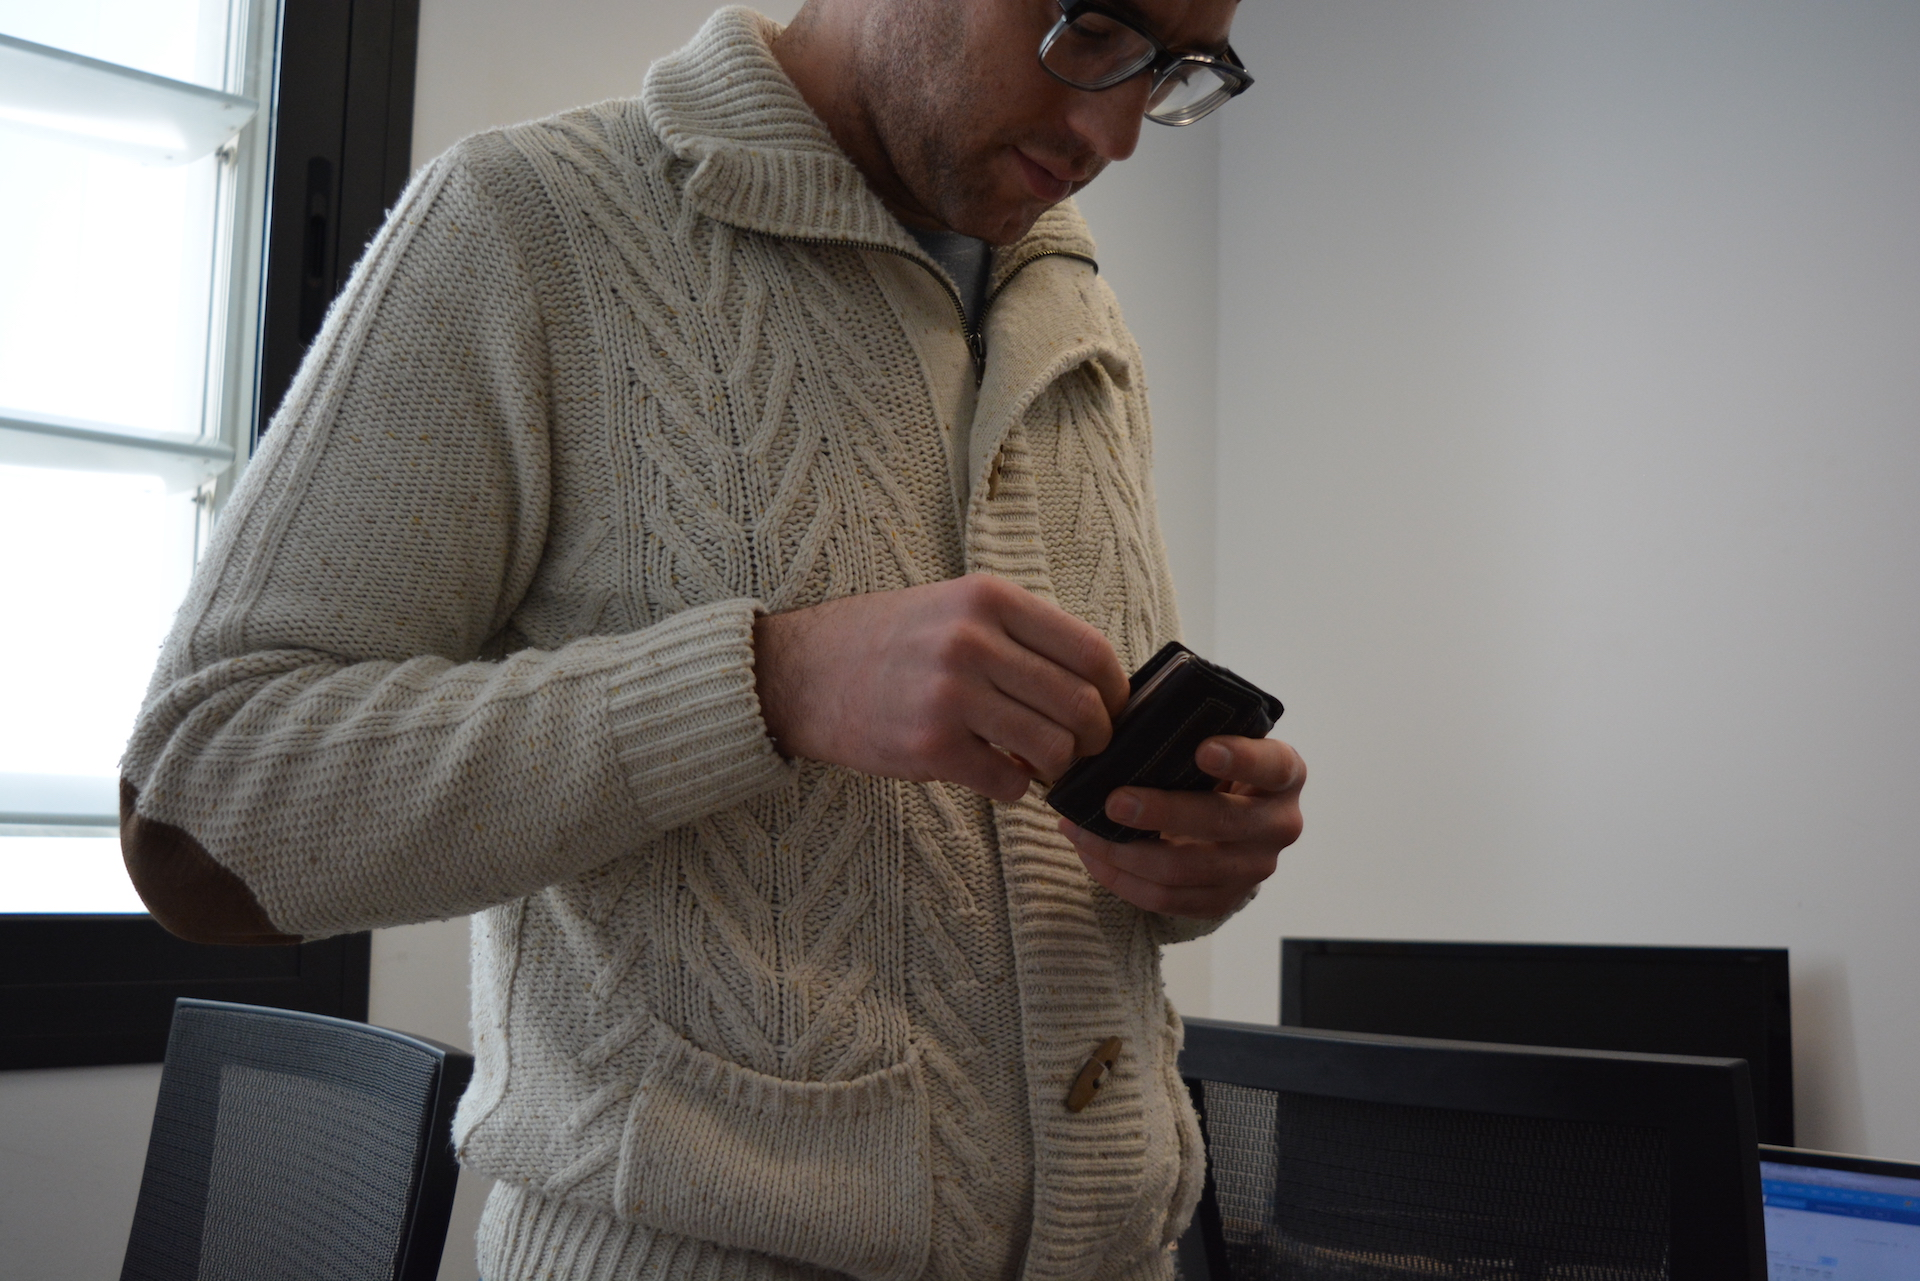monedero: (1036, 639, 1287, 844)
